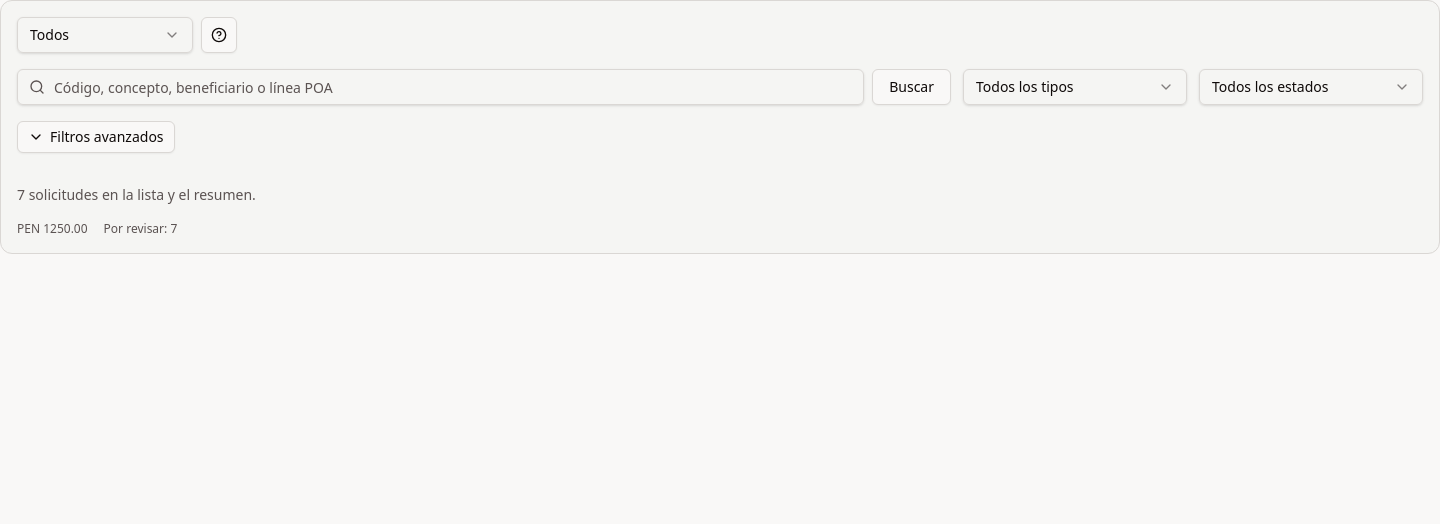
Test case: RequestReviewFilters › valida intervalos y montos avanzados, enfoca el primer campo inválido y aplica campos permitidos
Click the button "Filtros avanzados": click(96, 137) x1=17 y1=121 x2=175 y2=153
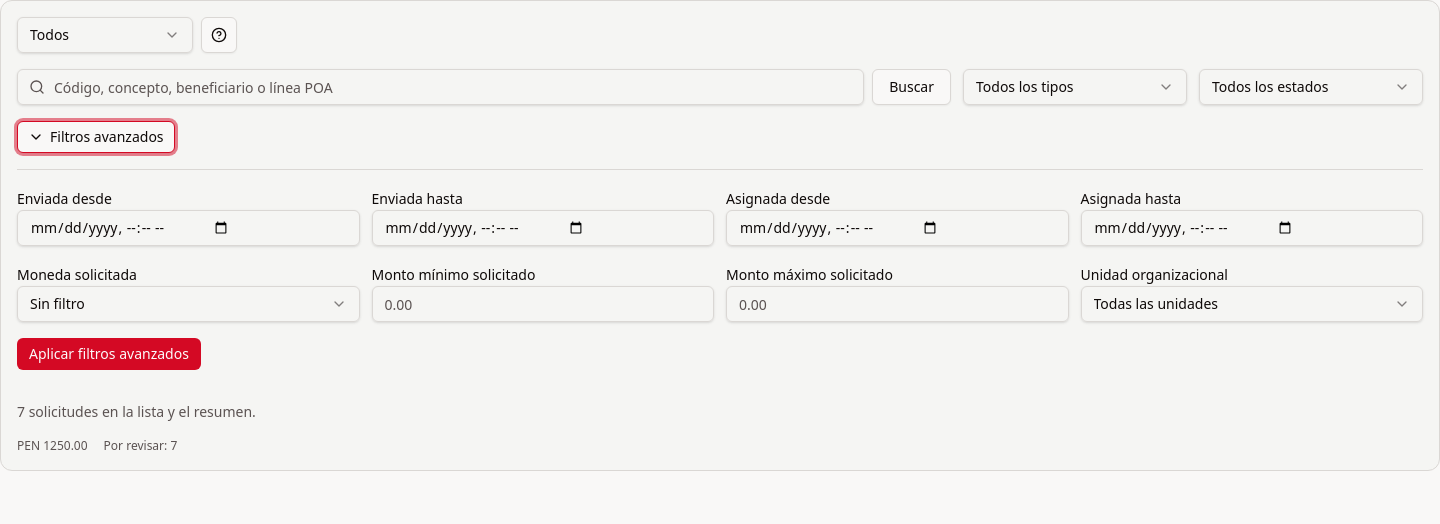
In the field labelled "Enviada desde": (188, 228) x1=17 y1=210 x2=360 y2=246, type "2026-08-28T10:00"
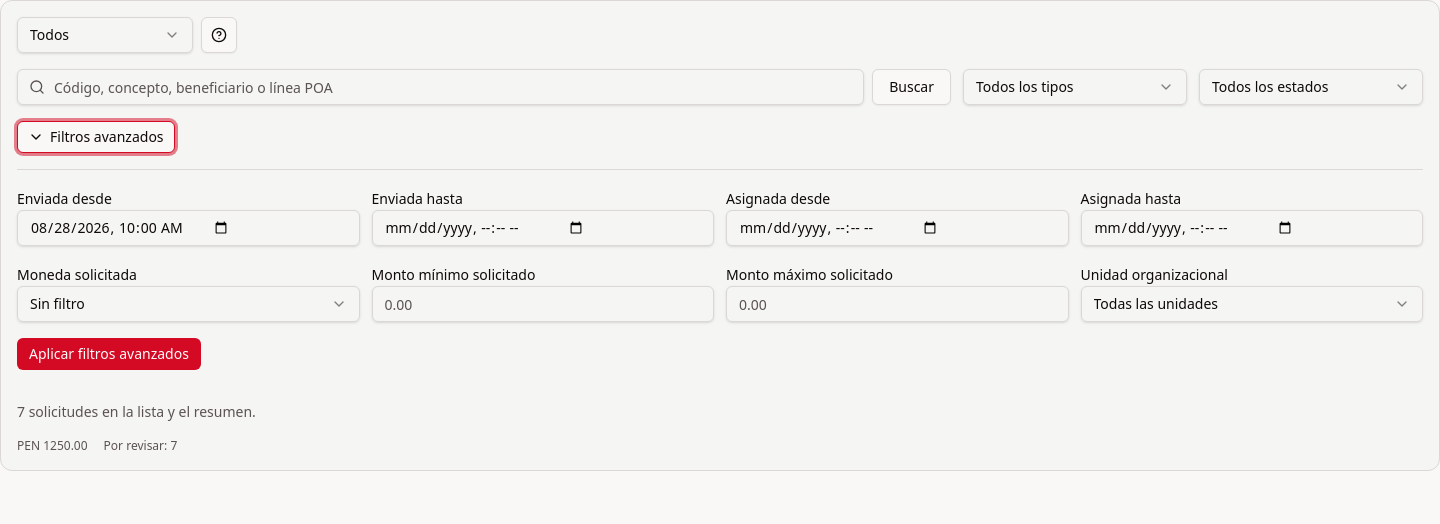
In the field labelled "Enviada hasta": (543, 228) x1=372 y1=210 x2=714 y2=246, type "2026-08-28T09:00"
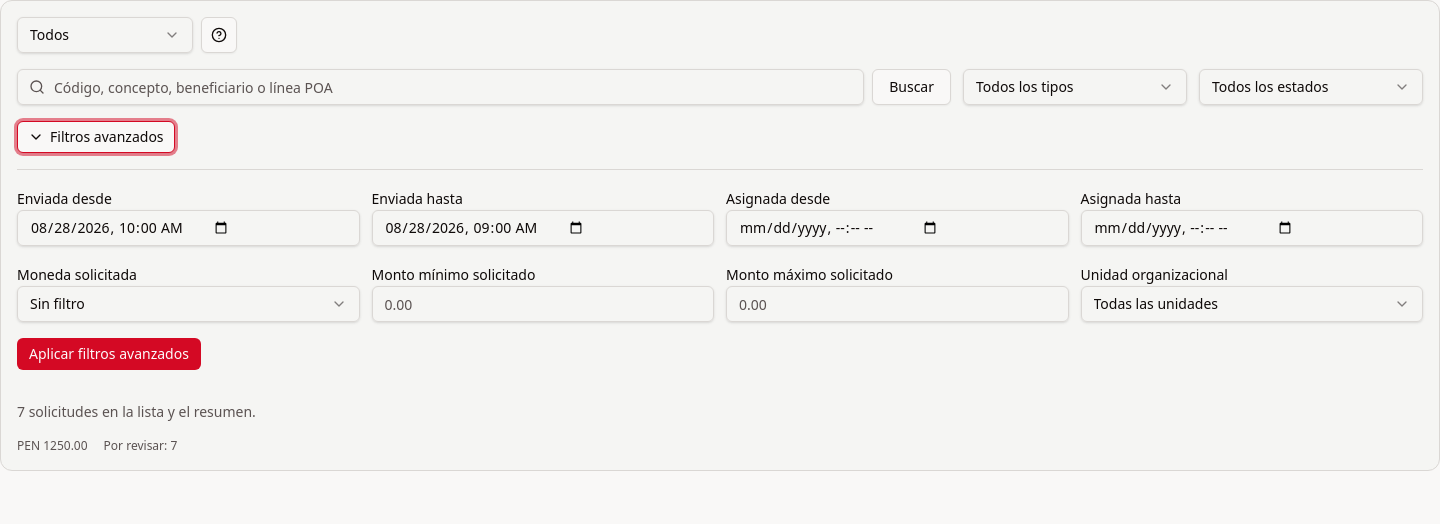
In the field labelled "Monto mínimo solicitado": (543, 304) x1=372 y1=286 x2=714 y2=322, type "20.00"
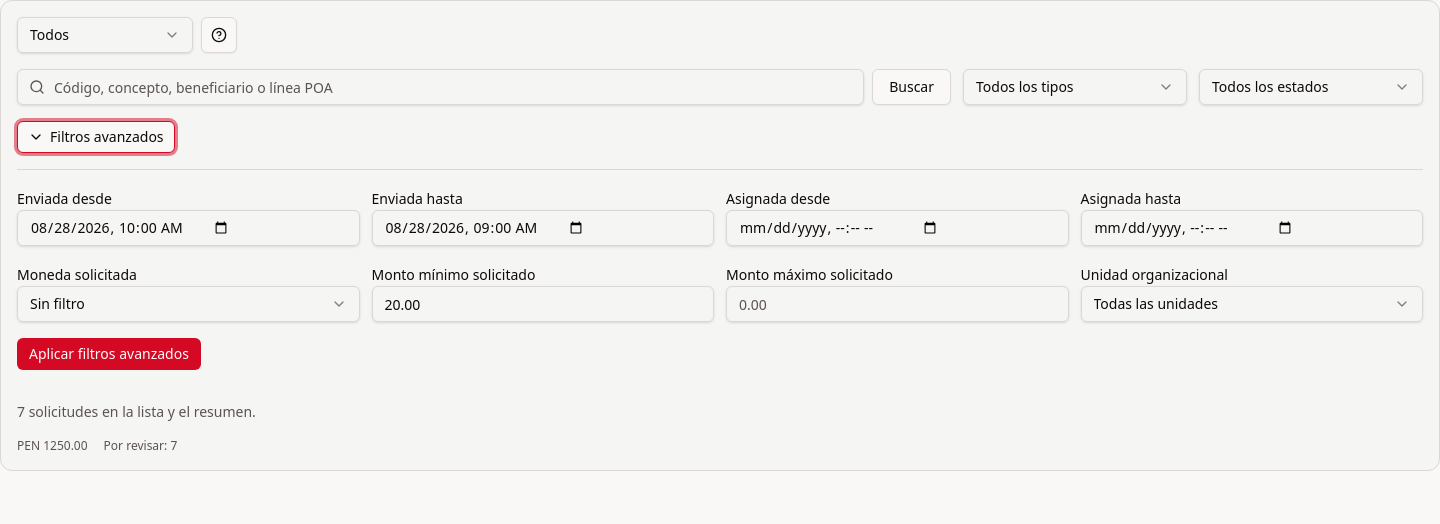
In the field labelled "Monto máximo solicitado": (897, 304) x1=726 y1=286 x2=1068 y2=322, type "10.00"
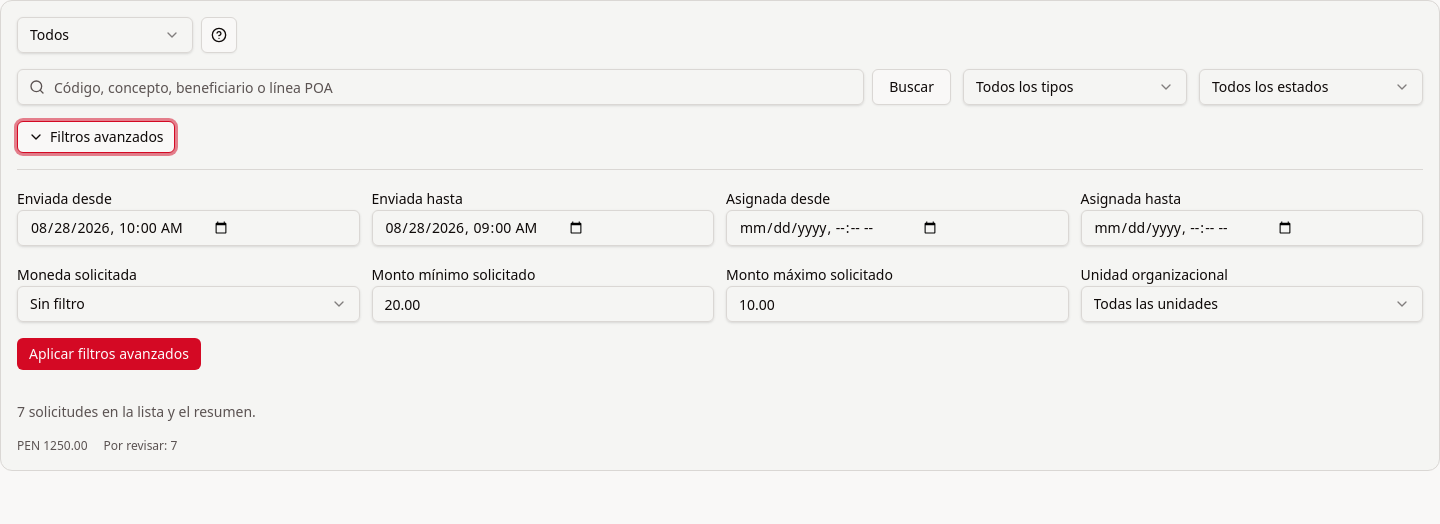
Click the button "Aplicar filtros avanzados": click(109, 354) x1=17 y1=338 x2=201 y2=370
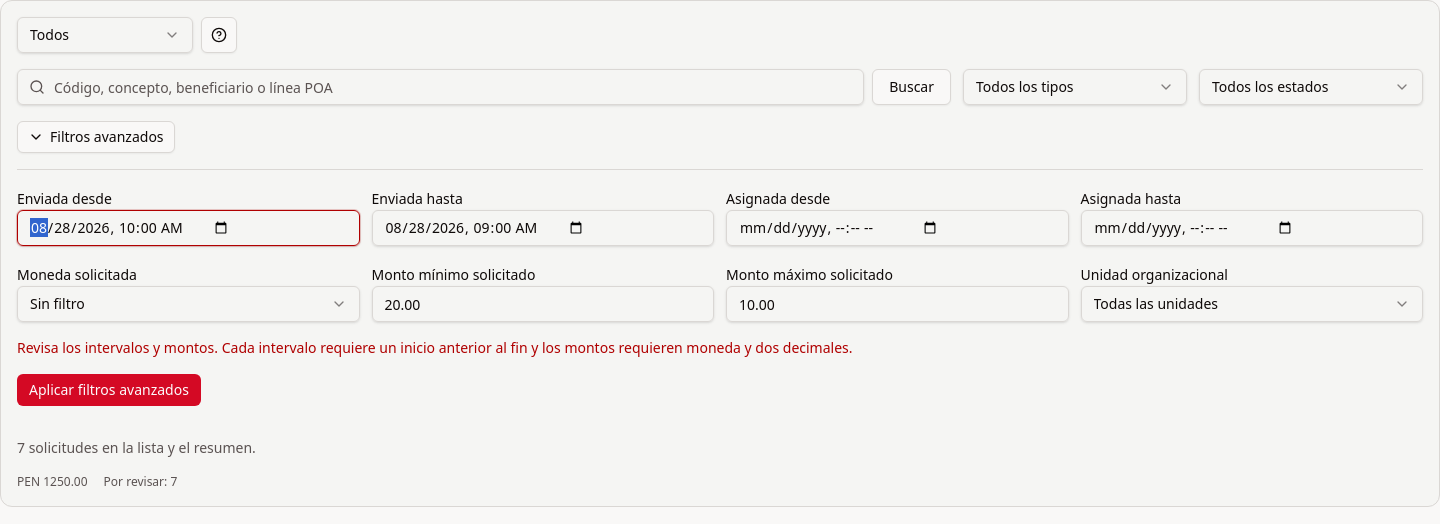
Expected: the 1st message shows "Revisa los intervalos y montos", x1=17 y1=338 x2=852 y2=357
